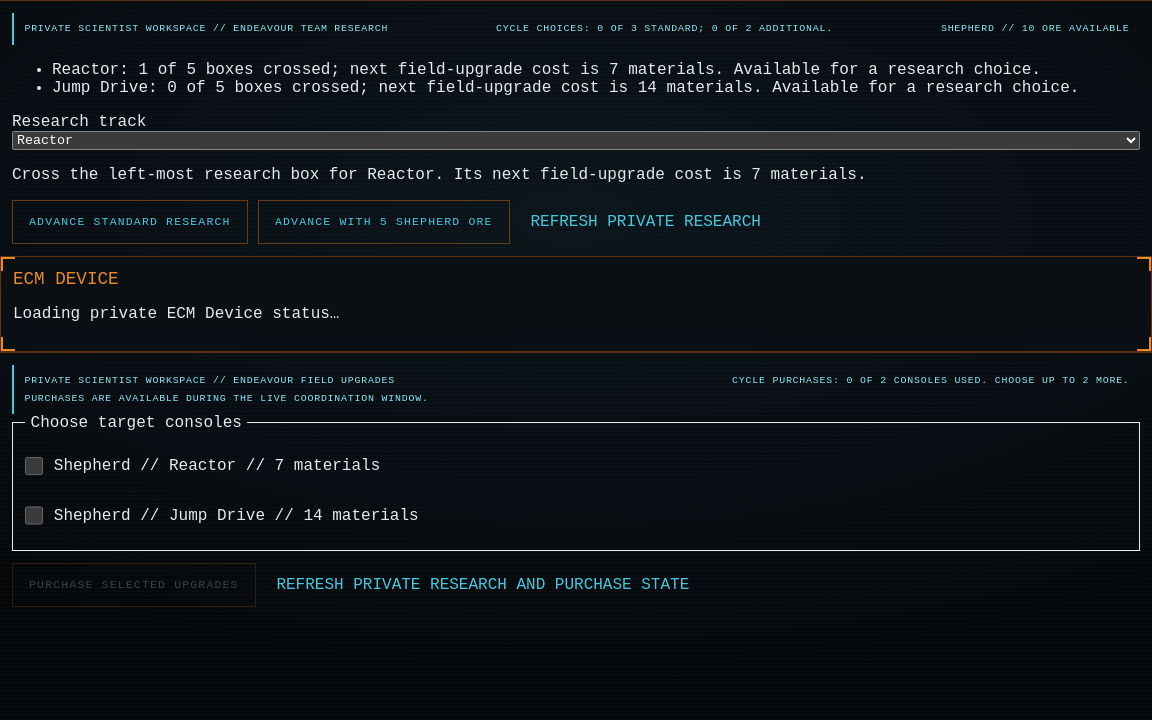
Test: submits the selected standard choice and refreshes from the server without an optimistic advance
Expected: the element named "Endeavour research controls" is shown, [0,0,1151,256]
What coordinates should you click on to do the following:
click the button "Advance standard research"
I would click on:
 (130, 222)
Its box is [12,200,248,244].
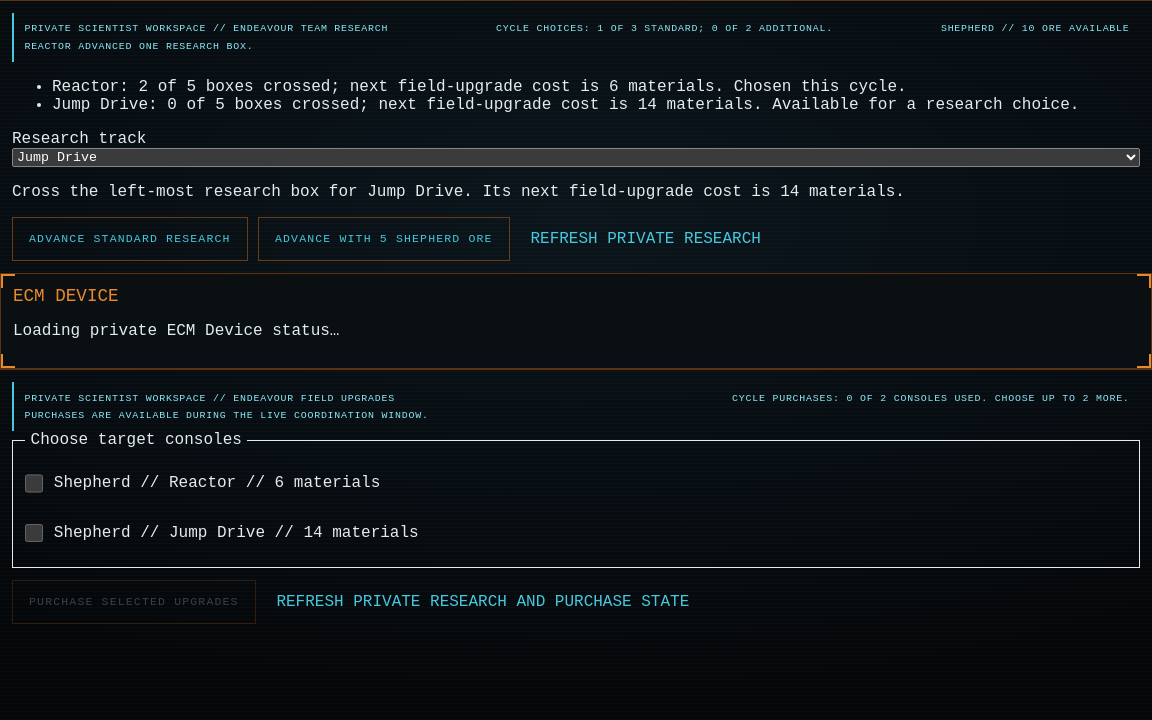
Expected: the list named "Research progress" shows "Reactor: 2 of 5 boxes crossed; next field-upgrade cost is 6 materials. Chosen this cycle.", [12,78,1140,114]
